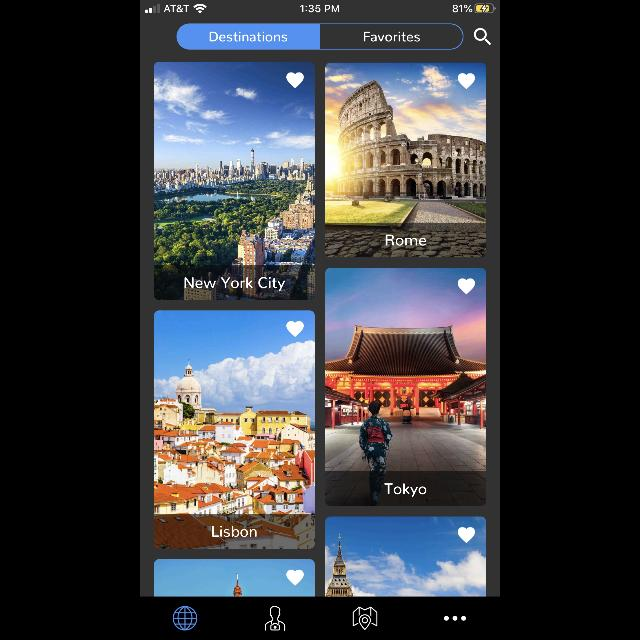icon: (172, 606, 198, 630), (352, 606, 378, 630), (264, 606, 286, 630), (474, 28, 492, 46), (286, 72, 304, 90), (458, 72, 474, 90), (286, 320, 304, 336), (458, 278, 474, 296), (286, 570, 304, 586), (458, 527, 474, 543), (444, 616, 466, 620)
image: (154, 311, 316, 549), (153, 62, 314, 300), (326, 268, 487, 506), (326, 62, 487, 258), (326, 516, 487, 596), (153, 560, 314, 596)
text: (184, 276, 286, 292), (384, 482, 426, 498), (212, 525, 258, 537), (386, 234, 426, 246)
textbutton: (176, 24, 320, 50), (321, 24, 464, 50)
uppertaskbar: (140, 0, 500, 14)
